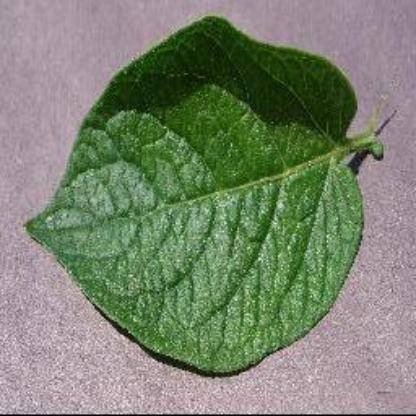Healthy-plant: (25, 8, 399, 380)
